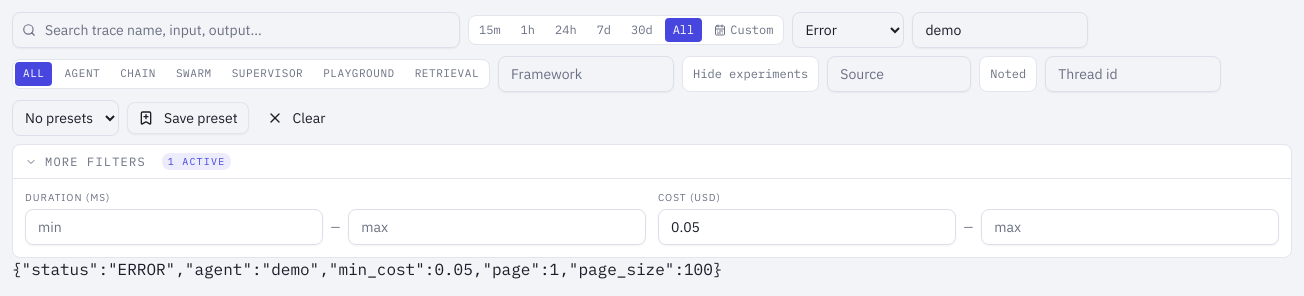
Test case: TraceFiltersBar (Sprint 3) › clears all active filters when the Clear button is pressed
The width and height of the screenshot is (1304, 296).
Step 1. Click the button "Clear" → [296, 118], box [257, 102, 335, 134]
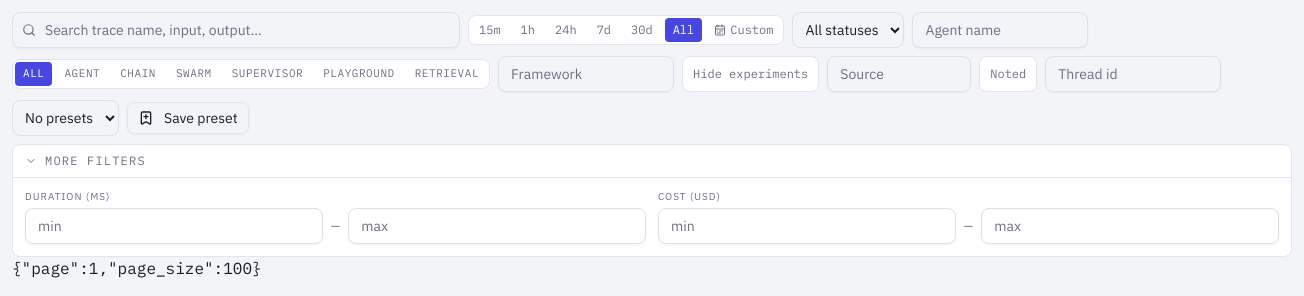
Expected: the text with test id "filters-state" no longer shows "\"status\":\"ERROR\""
Expected: the text with test id "filters-state" no longer shows "\"agent\":\"demo\""
Expected: the text with test id "filters-state" no longer shows "\"min_cost\""
